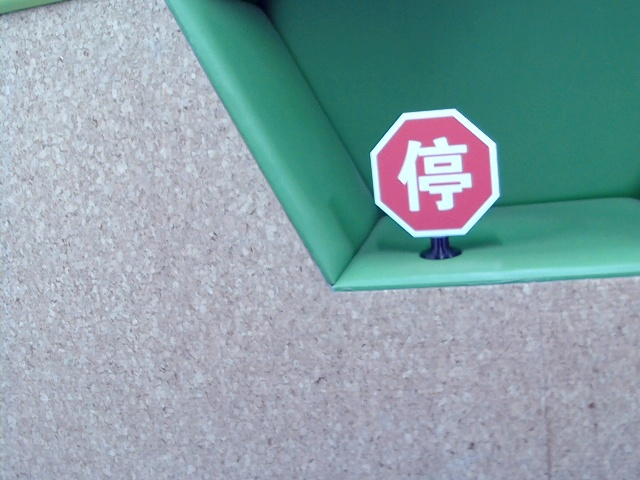stop: (398, 136, 473, 212)
